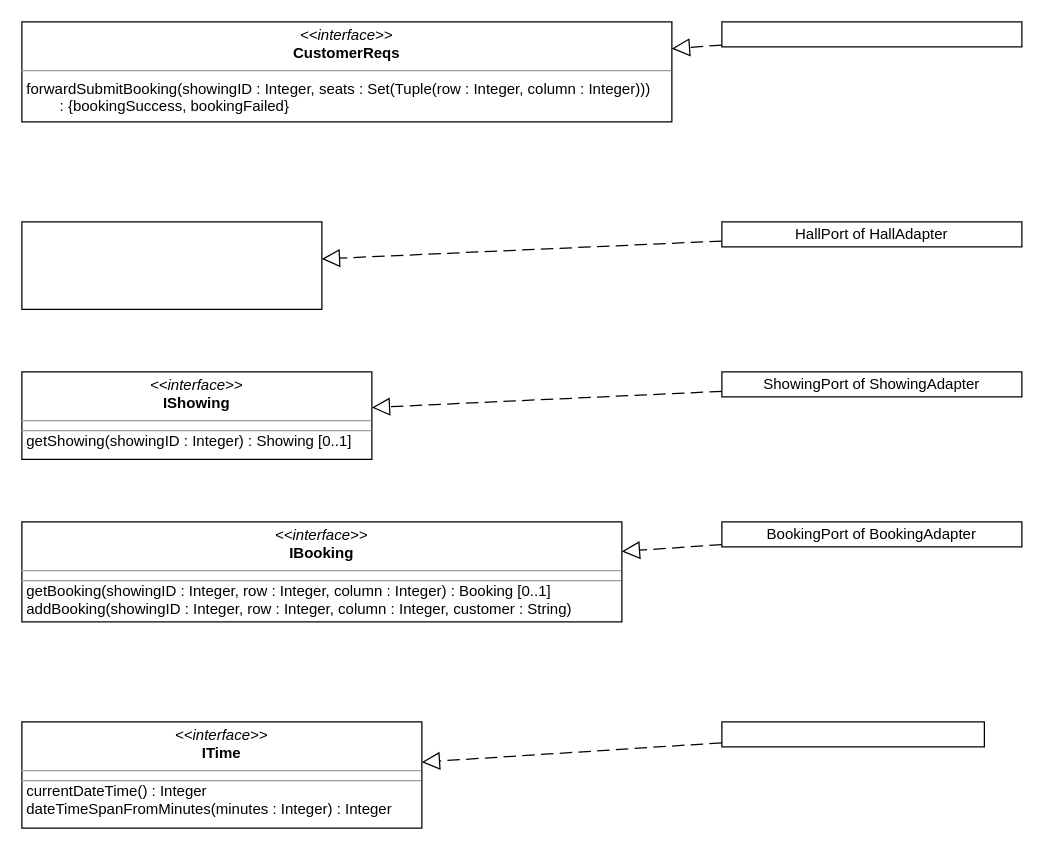
Image size: 1044x850. Some labels were removed from this diagram. The shapes that lost their labels are listed below. From the top down, each one's box as (x1, y1, x2, y2) in pixels, then its label:
(721, 21, 1022, 47): CustomerReqsPort of UDEK_Application
(21, 221, 322, 309): <<interface>> IHall getHall(hallNumber : Integer) : Hall [0..1]
(721, 721, 984, 747): TimePort of TimeAdapter
